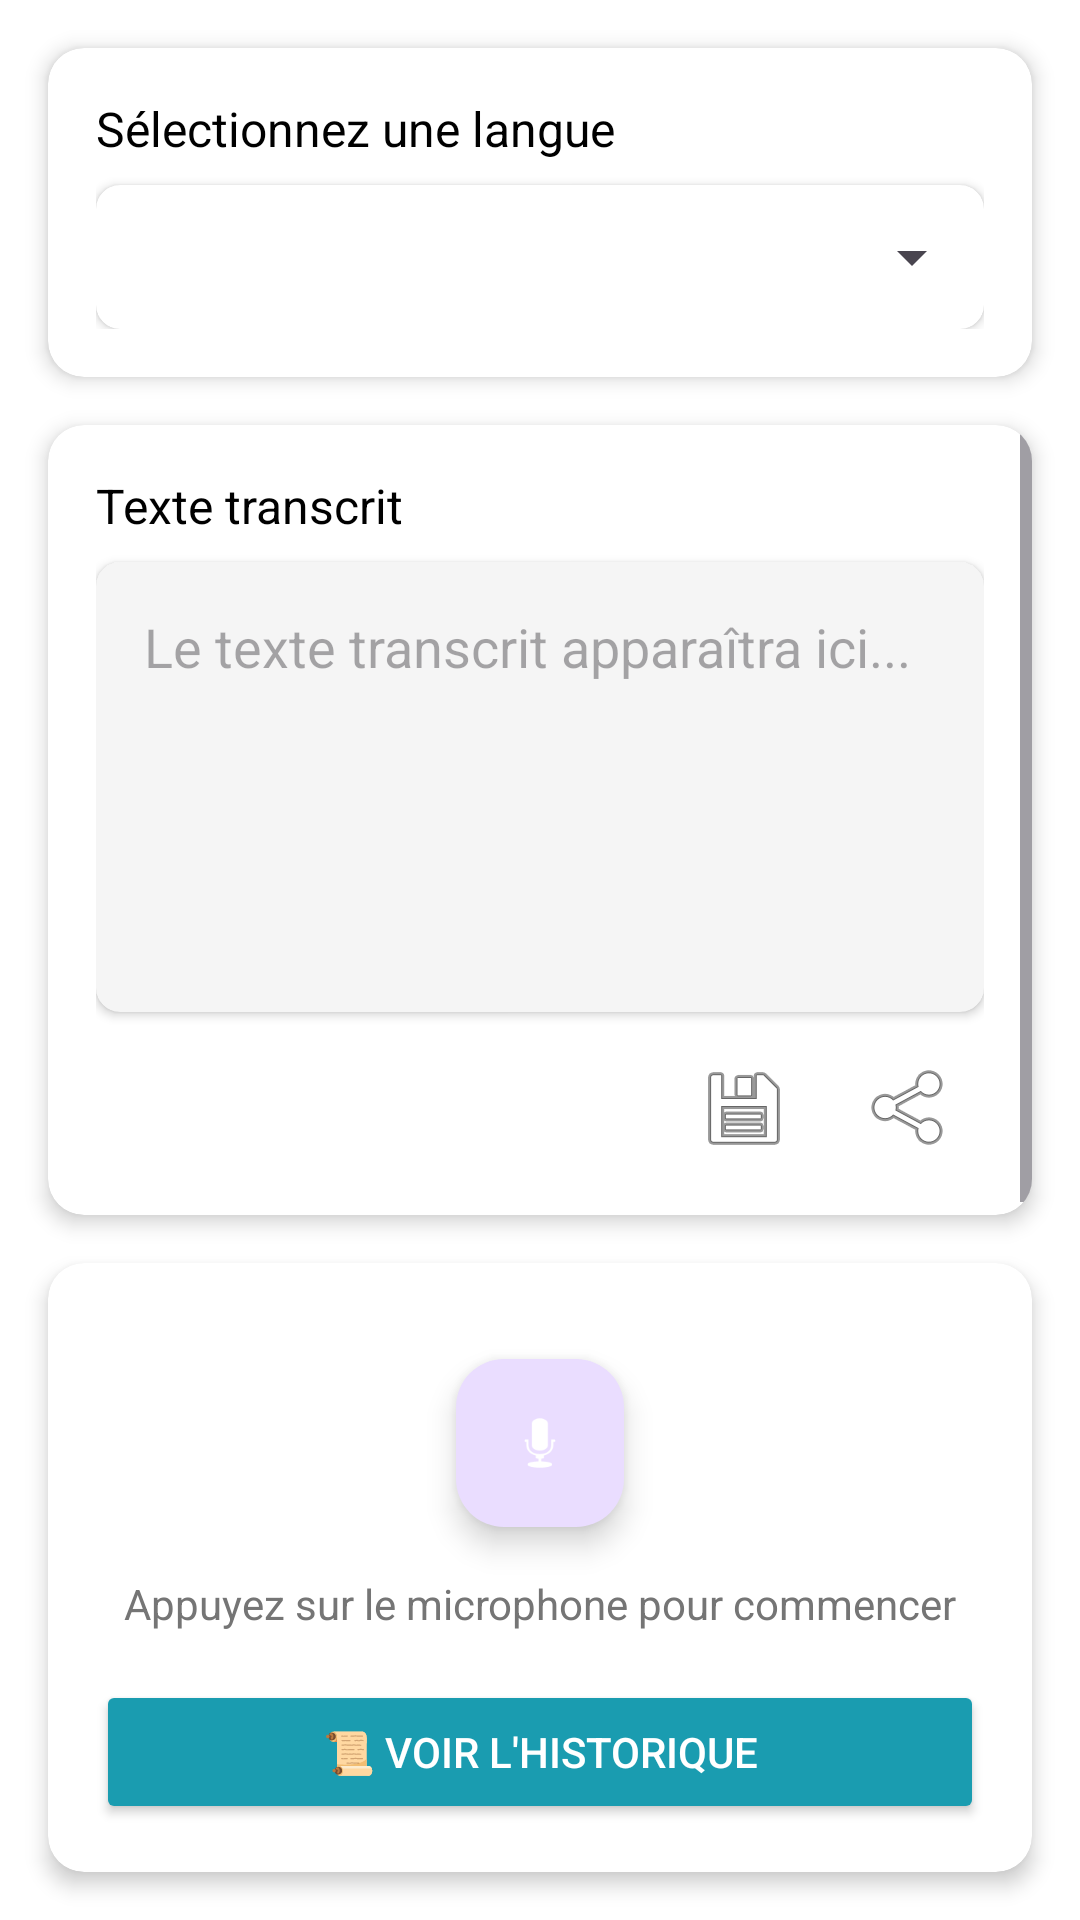

Icons on this 1080 x 1920 Android screen, each with its box as (x1, y1, x2, y2):
Appuyez pour parler: (456, 1359, 624, 1527)
Partager le texte: (871, 1070, 943, 1145)
